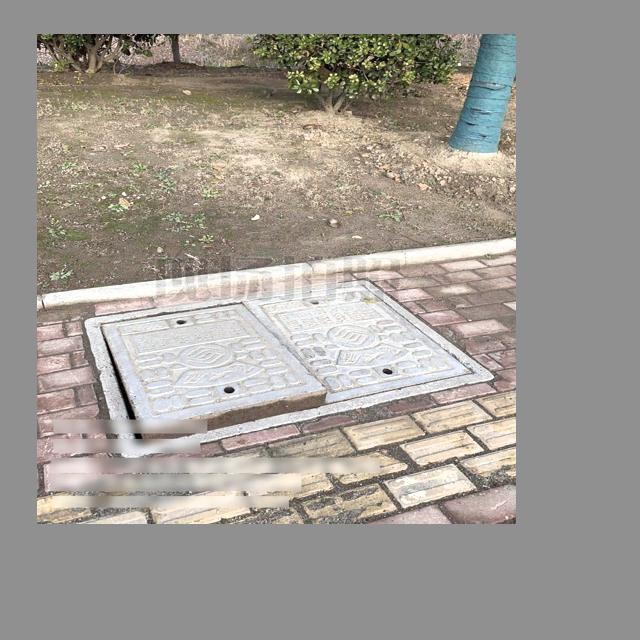uncovered: (83, 279, 498, 460)
